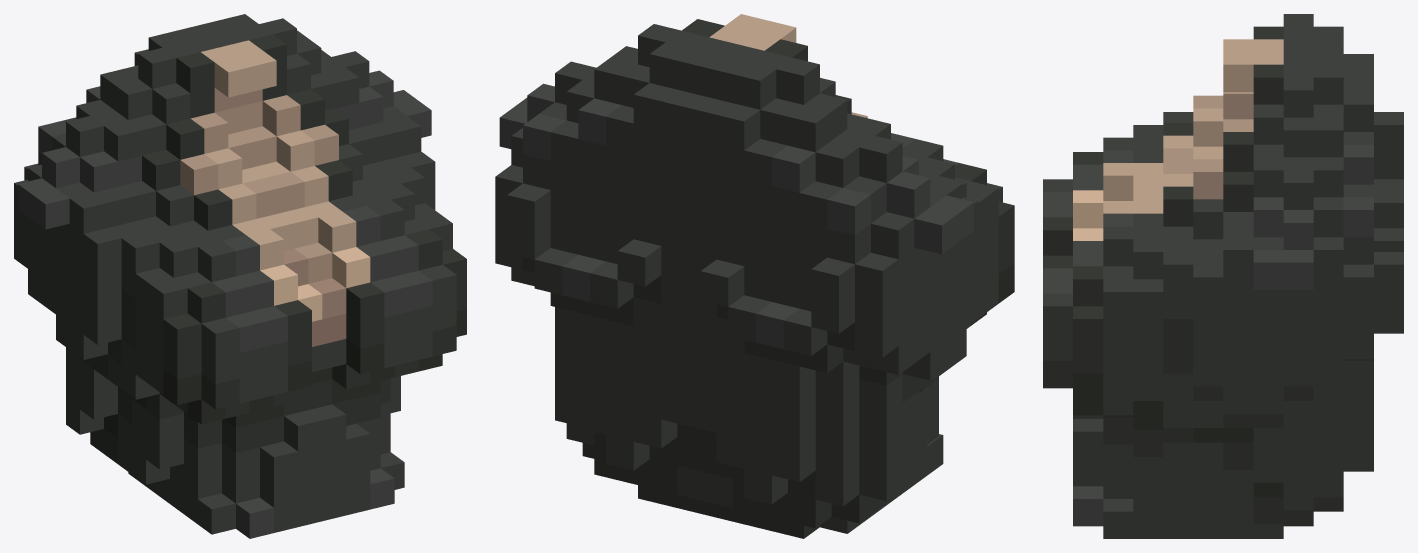
The model's file is Brune-12.obj.
3 renders of one model, left to right at view 1: azimuth 30°, elevation 25°; view 2: azimuth 150°, elevation 25°; view 3: azimuth 270°, elevation 25°, orthographic. The views are drawn at different scales.
Bounding box in the file's own units: 1.6 × 1.6 × 1.2.
1 material, 1 textured.
